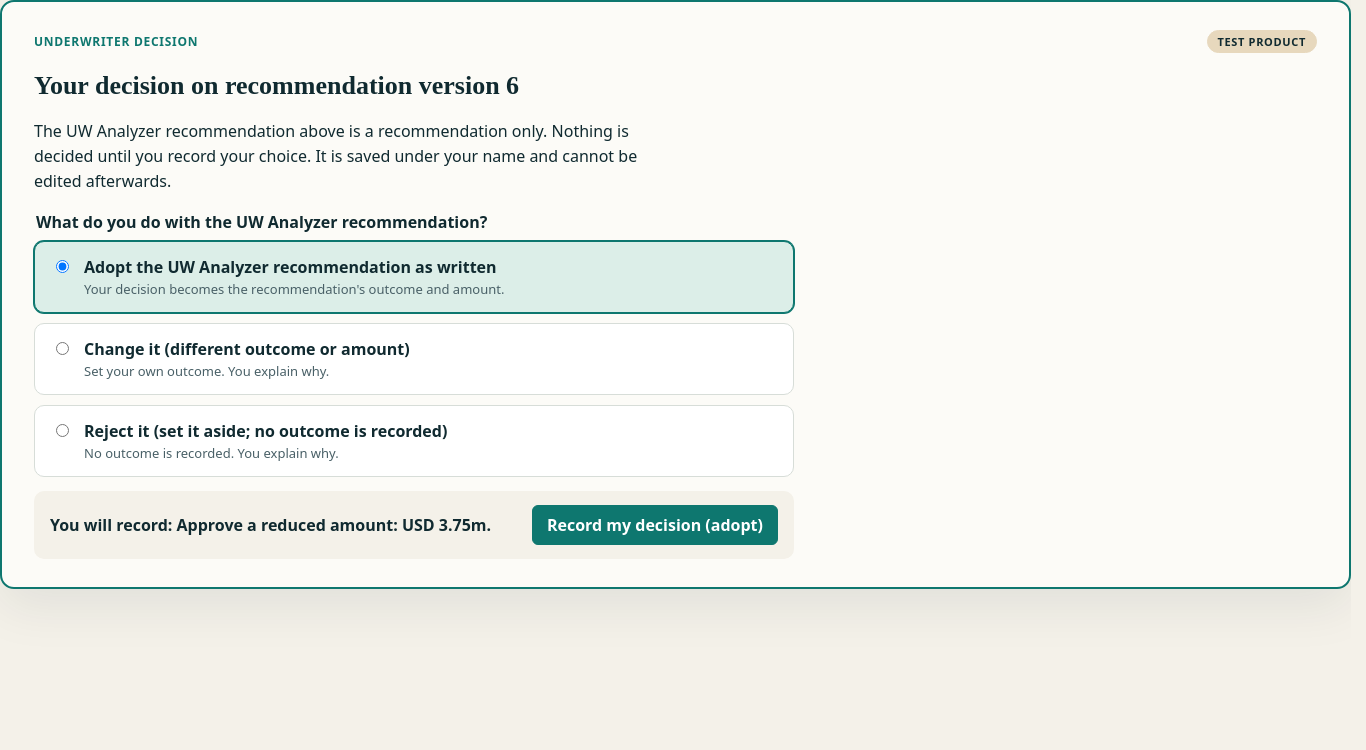
the decision form tells the truth about what it will record › never previews an amount above the request, and says what is still needed
Click the radio button labelled "Change it": point(62, 349) x1=56 y1=342 x2=69 y2=355
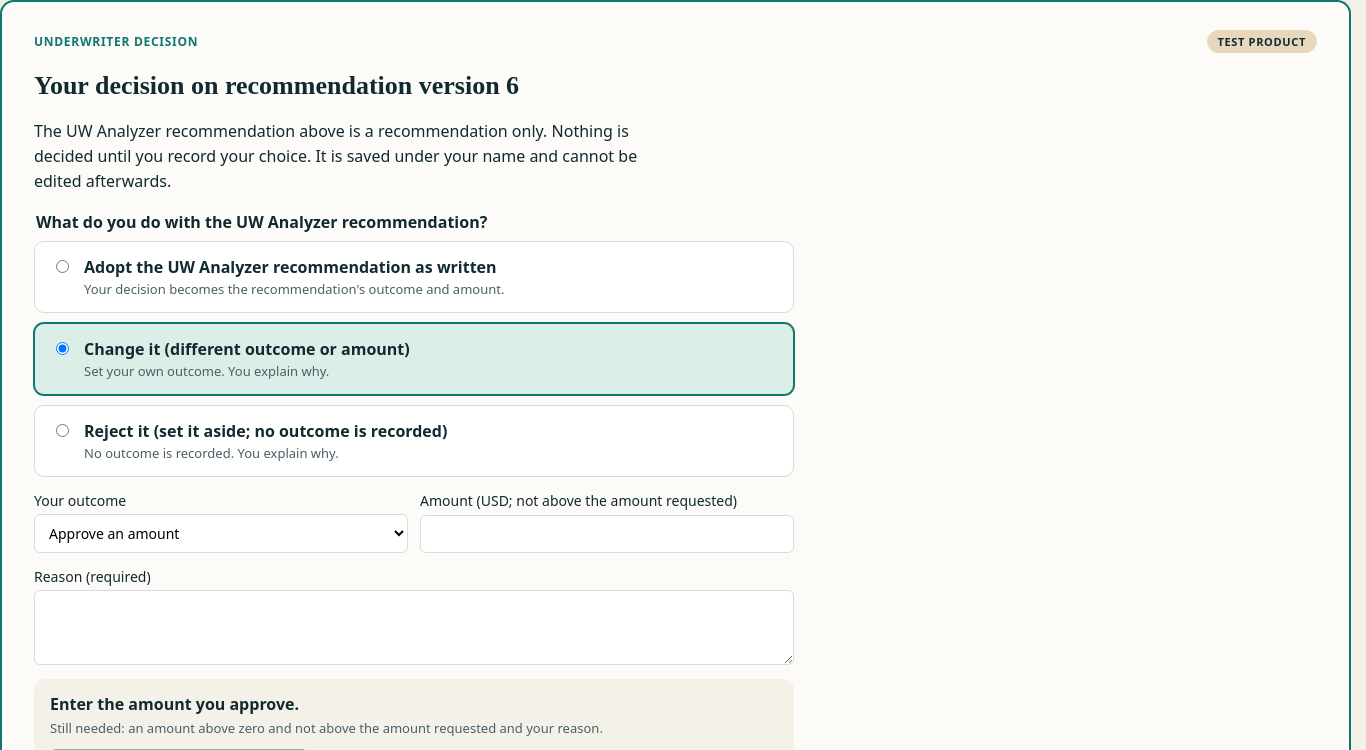
Expected: the text "Still needed: an amount above zero and not above the amount requested and your reason." is shown, x1=50 y1=719 x2=603 y2=737
In the field labelled "Amount (USD; not above the amount requested)": point(607, 534) x1=420 y1=515 x2=794 y2=553, type "6000000"
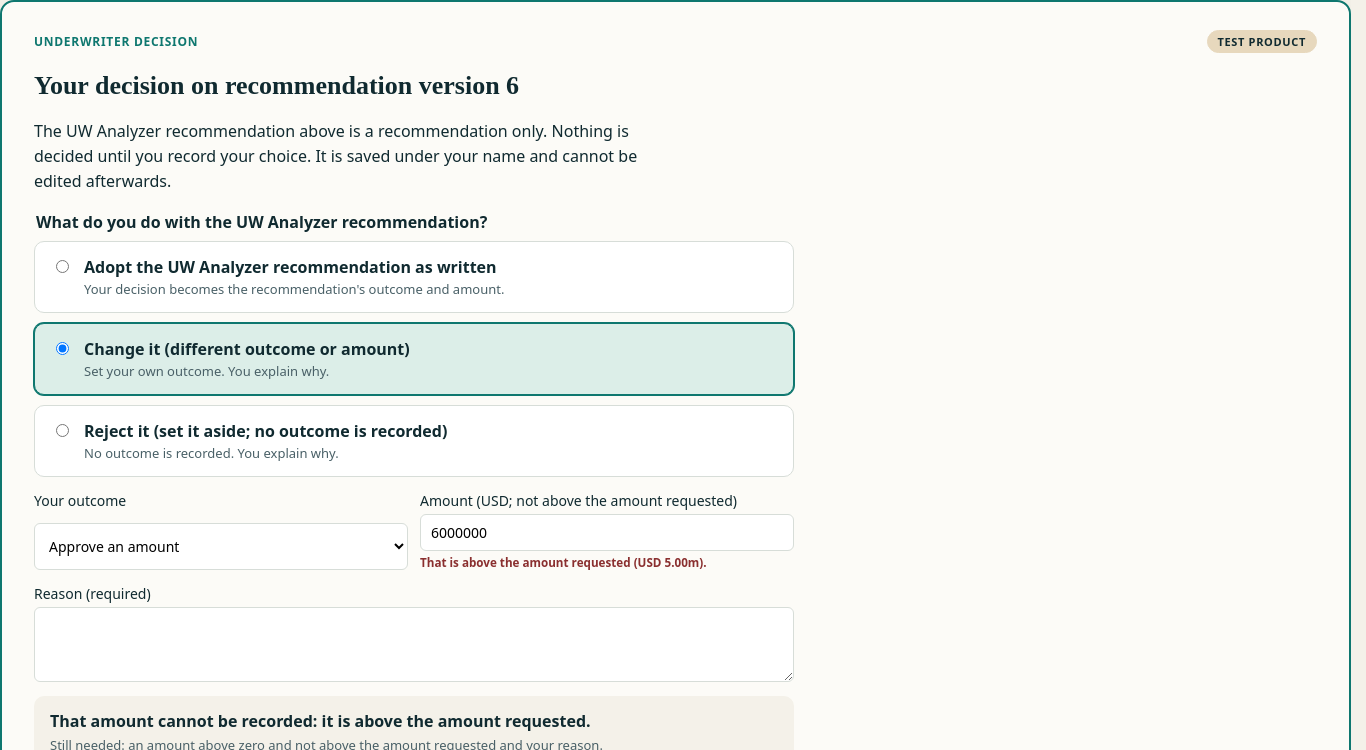
Expected: the text "That amount cannot be recorded: it is above the amount requested." is shown, x1=50 y1=710 x2=603 y2=732
Replace the text in the field labelled "Amount" with "4000000": point(607, 533) x1=420 y1=514 x2=794 y2=551
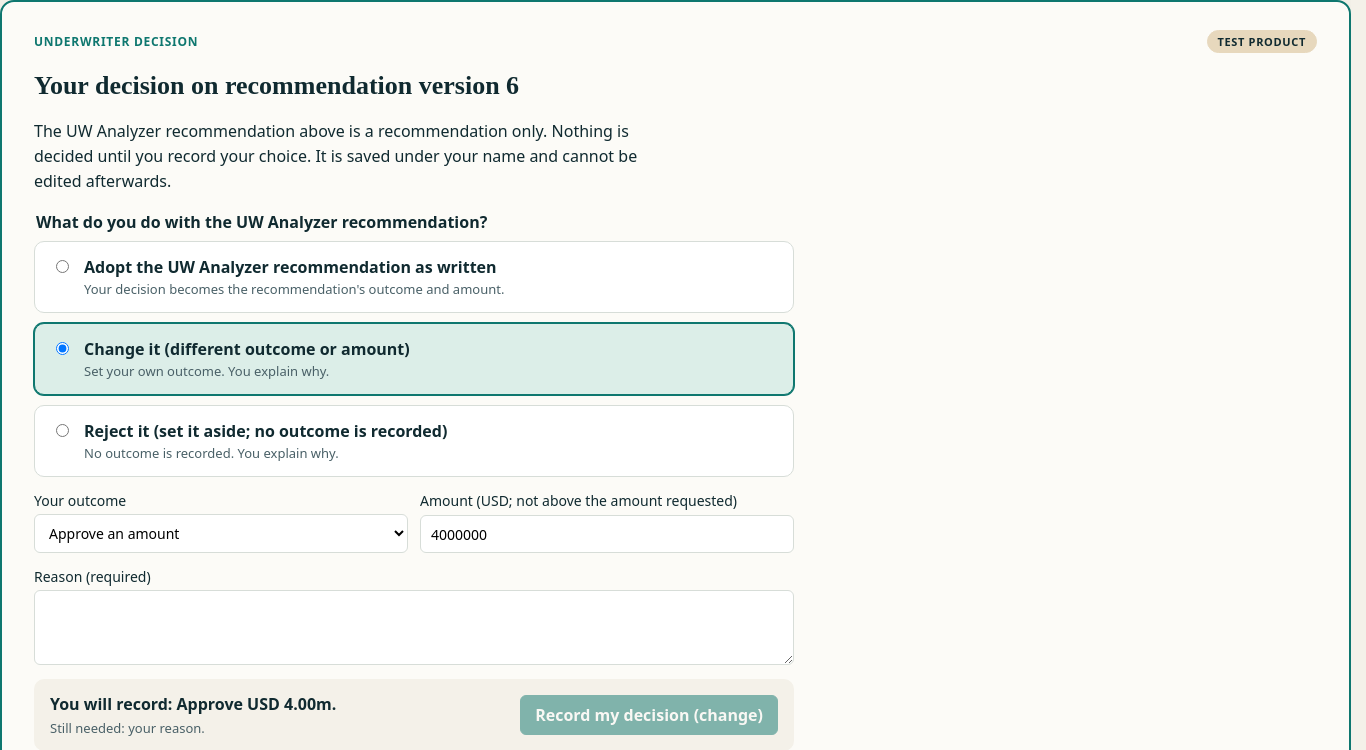
Expected: the text "You will record: Approve USD 4.00m." is shown, x1=50 y1=693 x2=336 y2=715
Expected: the text "Still needed: your reason." is shown, x1=50 y1=719 x2=205 y2=737
In the text box labelled "Reason (required)": point(414, 628) x1=34 y1=590 x2=794 y2=665, type "My own view of the sector."
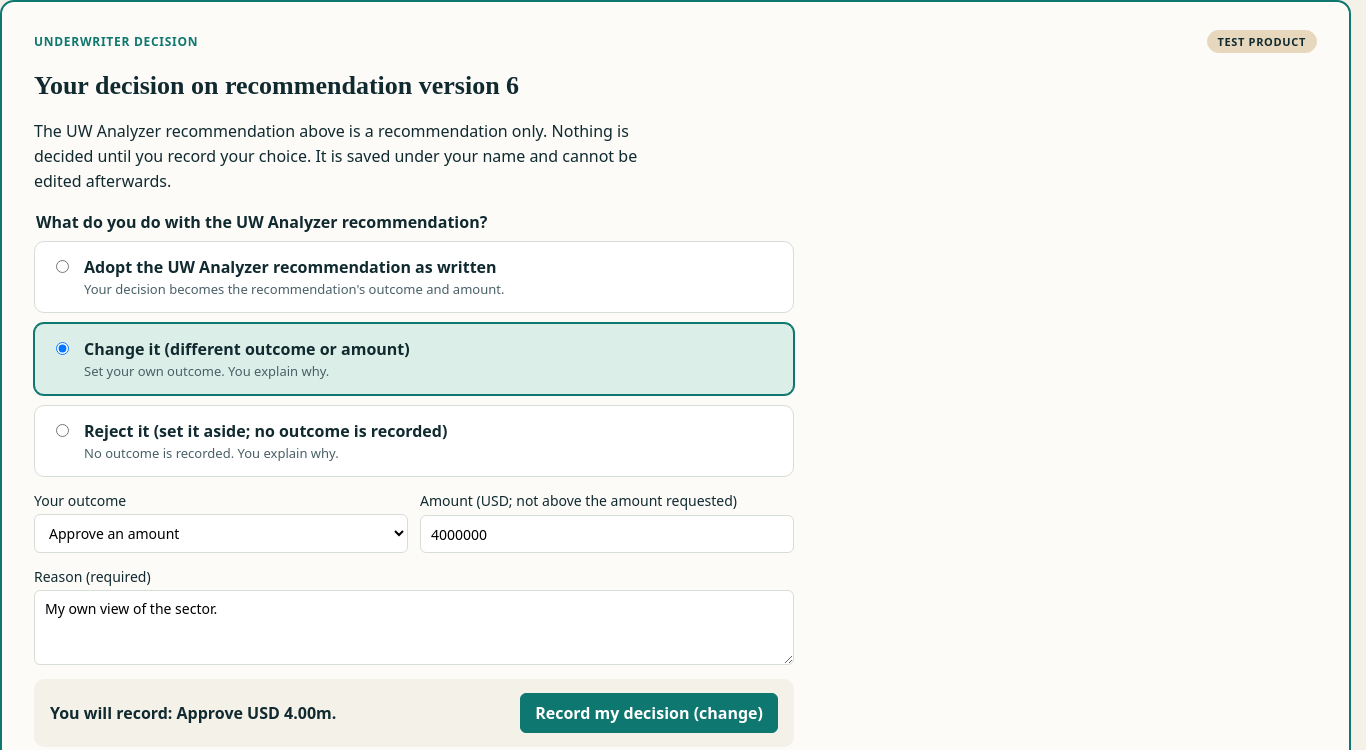
Expected: the text "Still needed" is gone
Expected: the button "Record my decision (change)" is enabled, x1=520 y1=693 x2=778 y2=733
